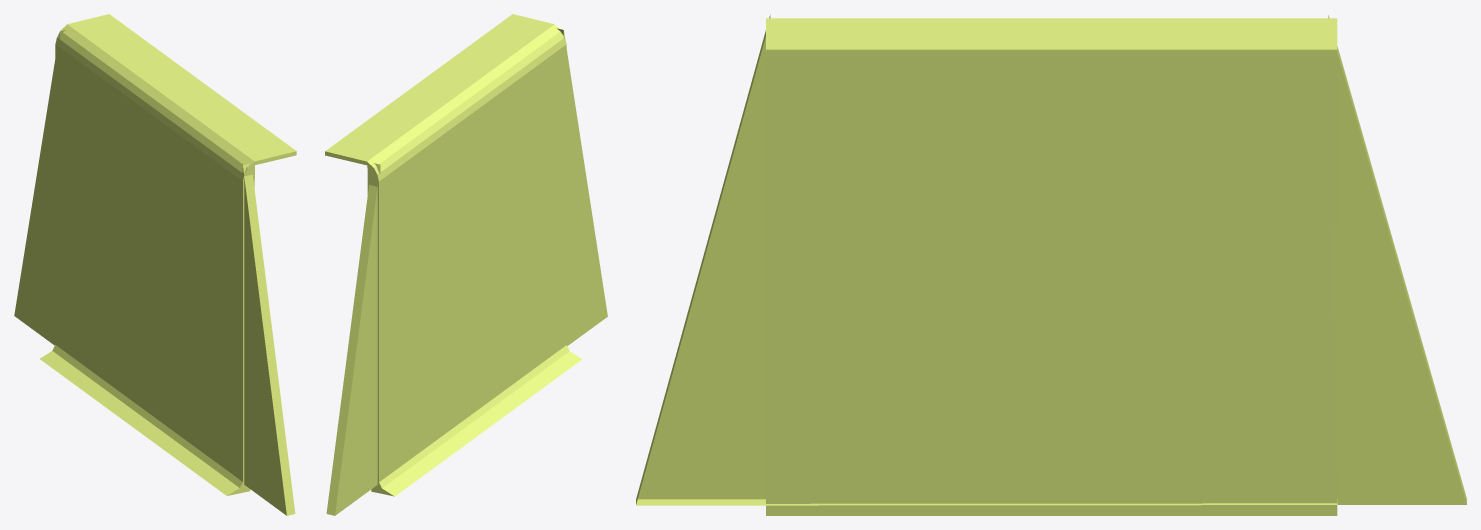
Rendered from Glas.fbx.
3 views of the same model, side by side, from view 1: azimuth 30°, elevation 25°; view 2: azimuth 150°, elevation 25°; view 3: azimuth 270°, elevation 25° (orthographic). The views are drawn at different scales.
Parts seen in each view (by area): view 1: Glas; view 2: Glas; view 3: Glas.
Boxes of the visible parts, x1,y1,x2,y2 form: Glas: (14, 14, 296, 515); Glas: (325, 14, 607, 515); Glas: (636, 15, 1466, 515).
Bounding box in the file's own units: 12.74 × 57.33 × 86.22.
